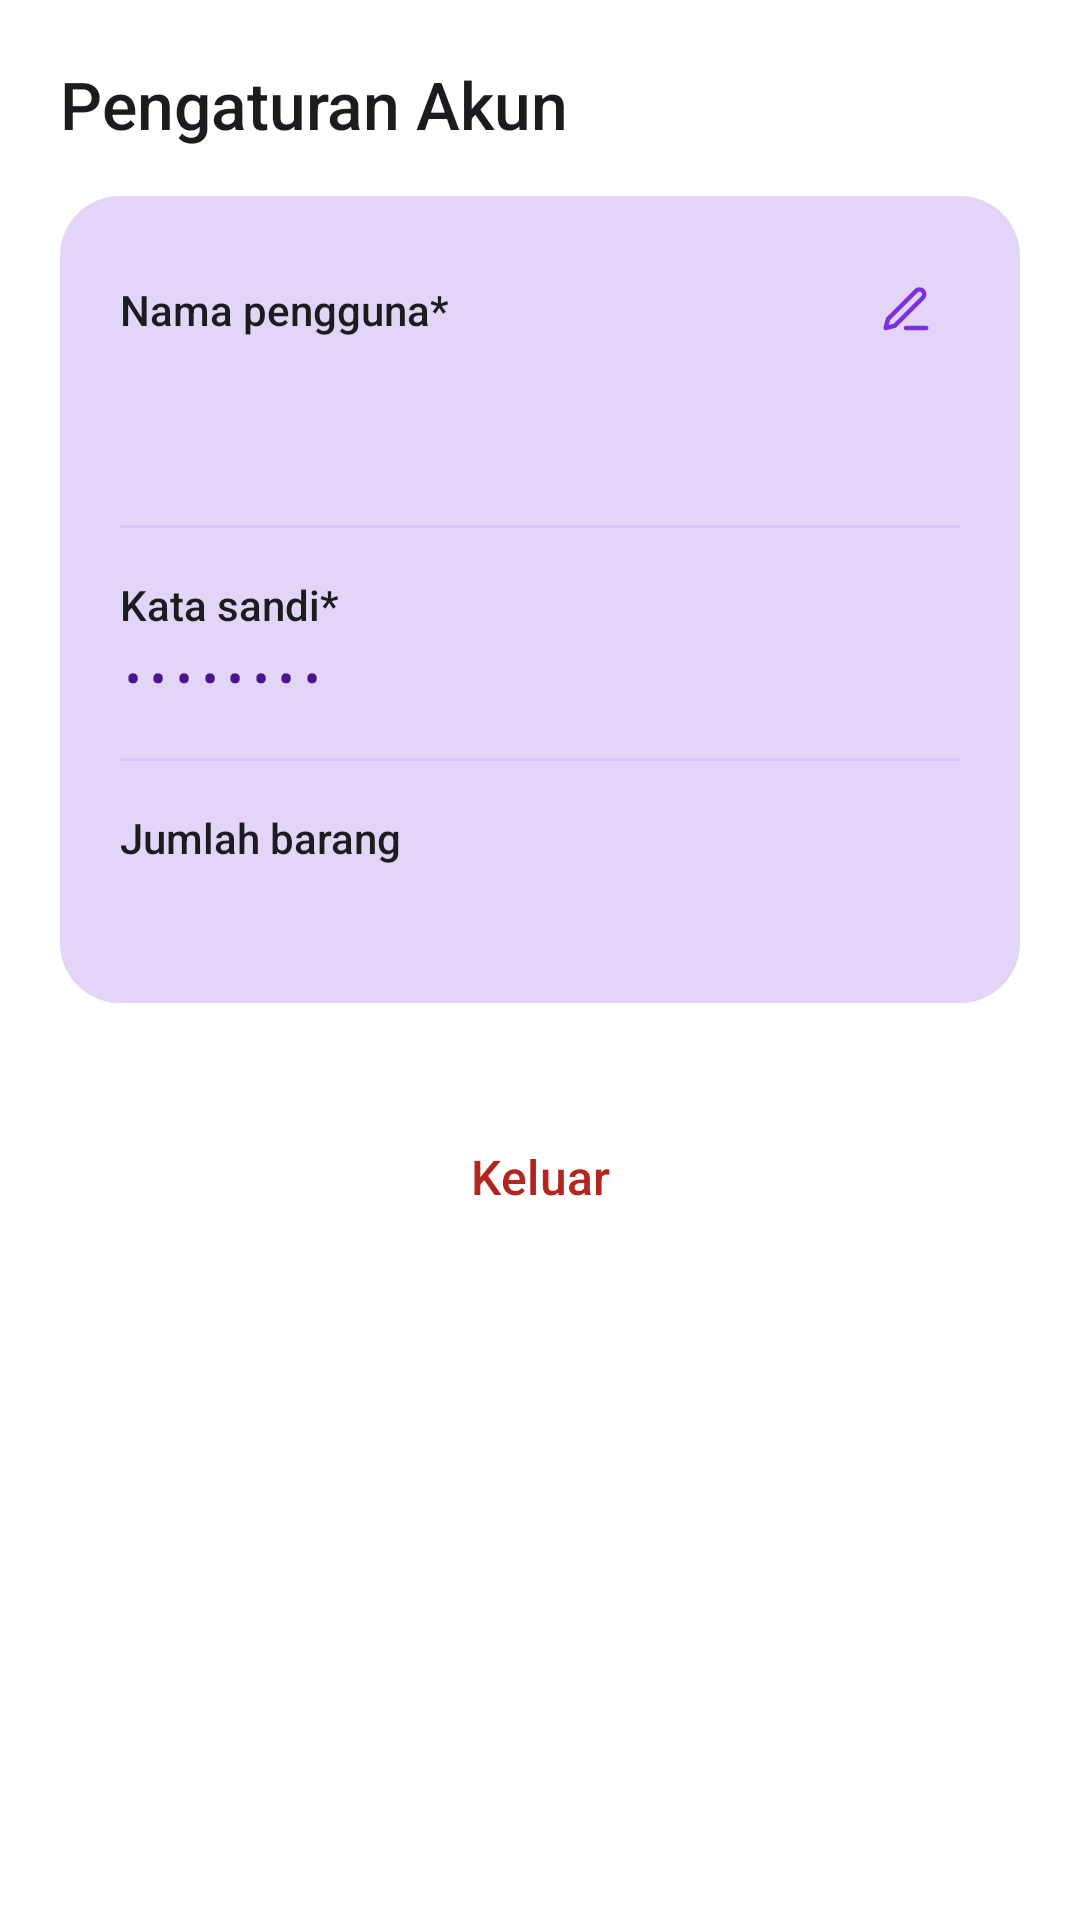

Icons on this 1080×1920 Android screen, each with its box as {"x1": x1, "y1": y1, "x2": x2, "y2": y2}:
Ubah Akun: {"x1": 883, "y1": 287, "x2": 929, "y2": 331}
